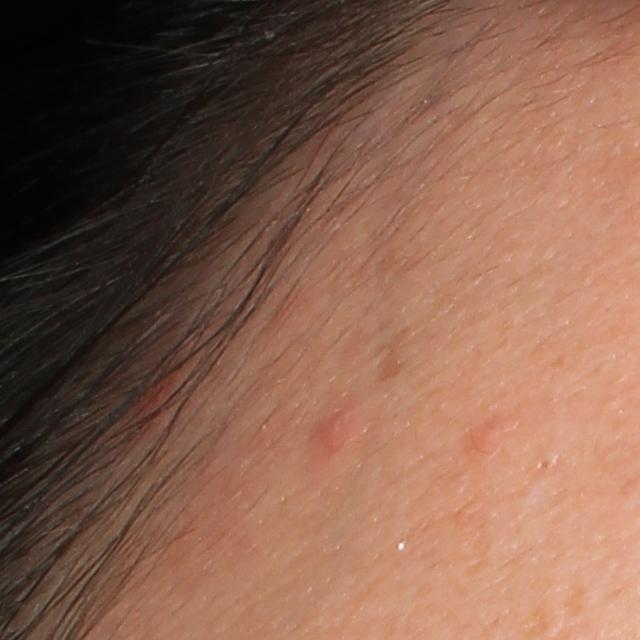papule: (462, 407, 524, 464), (315, 408, 359, 463), (139, 356, 181, 412)
